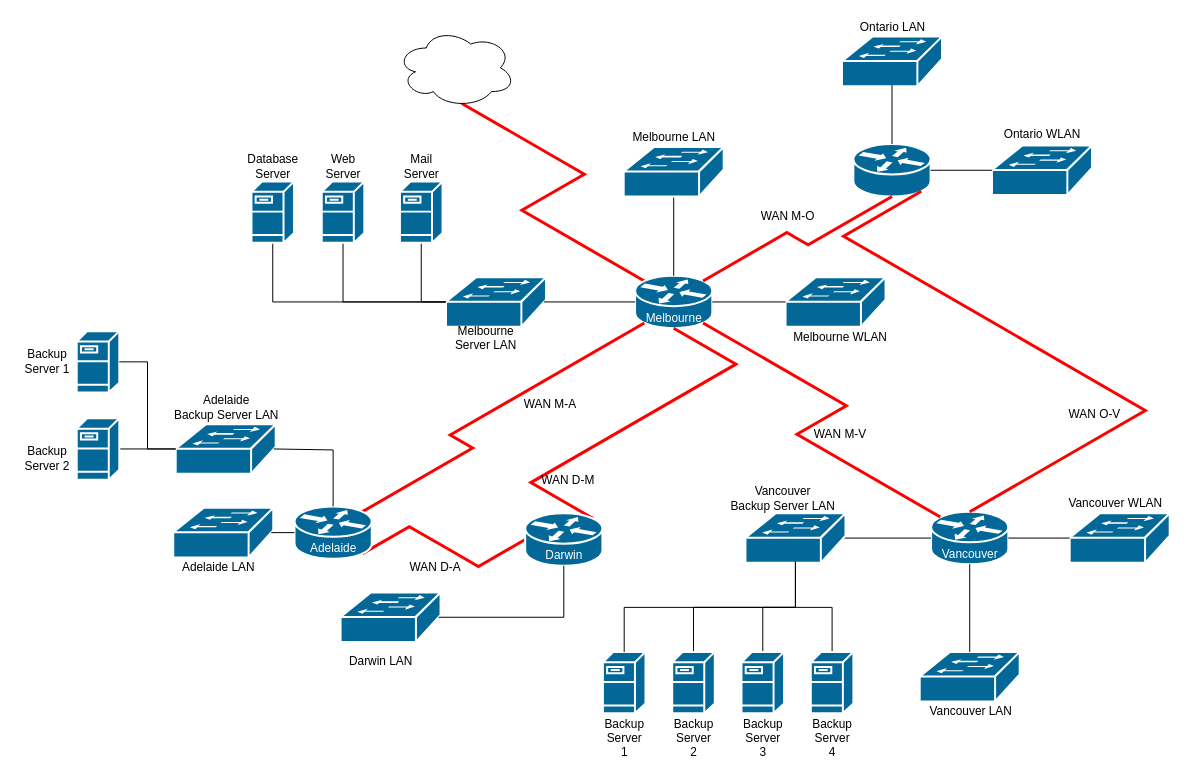
Image size: 1187x780. Some labels were removed from this diagram. The centre of each missing label's shape, as x and y in pixels:
"Internet" belongs at [455,67].
"Ontario" belongs at [891,170].
